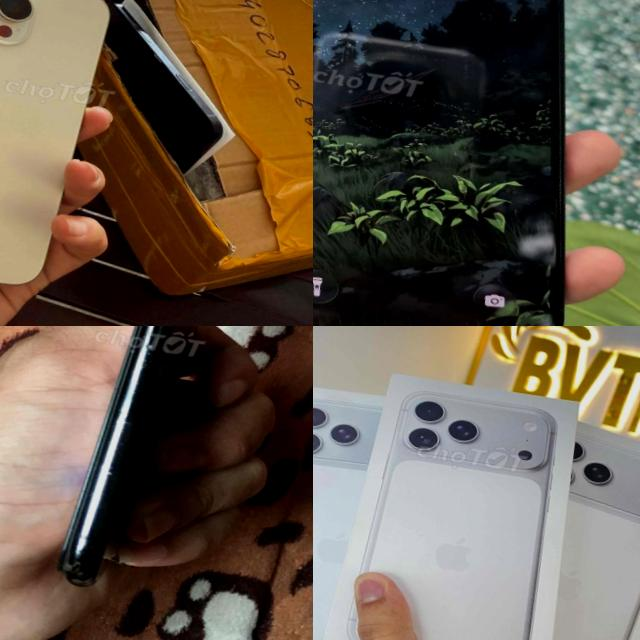gen_12_13: (313, 0, 632, 326)
gen_15: (0, 0, 119, 298)
gen_17: (337, 347, 591, 640)
gen_x_xs: (58, 326, 192, 585)
scratch: (127, 336, 168, 428), (89, 421, 137, 496)
